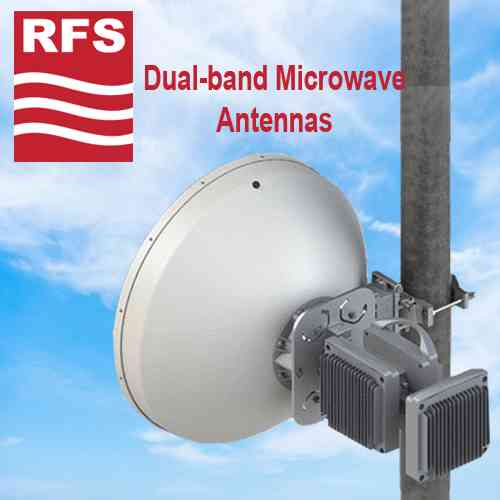ba: (112, 125, 390, 458)
